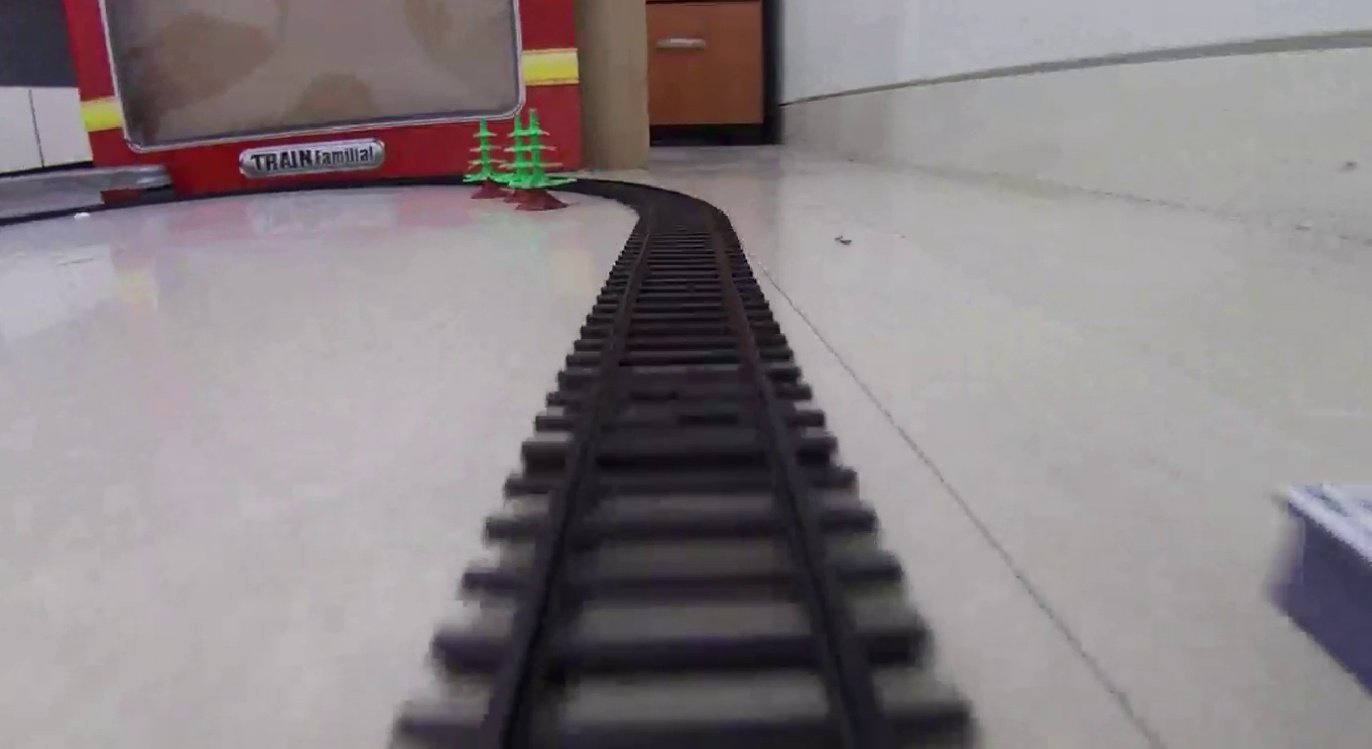tree: (516, 110, 572, 209), (464, 117, 505, 199), (500, 114, 536, 202)
